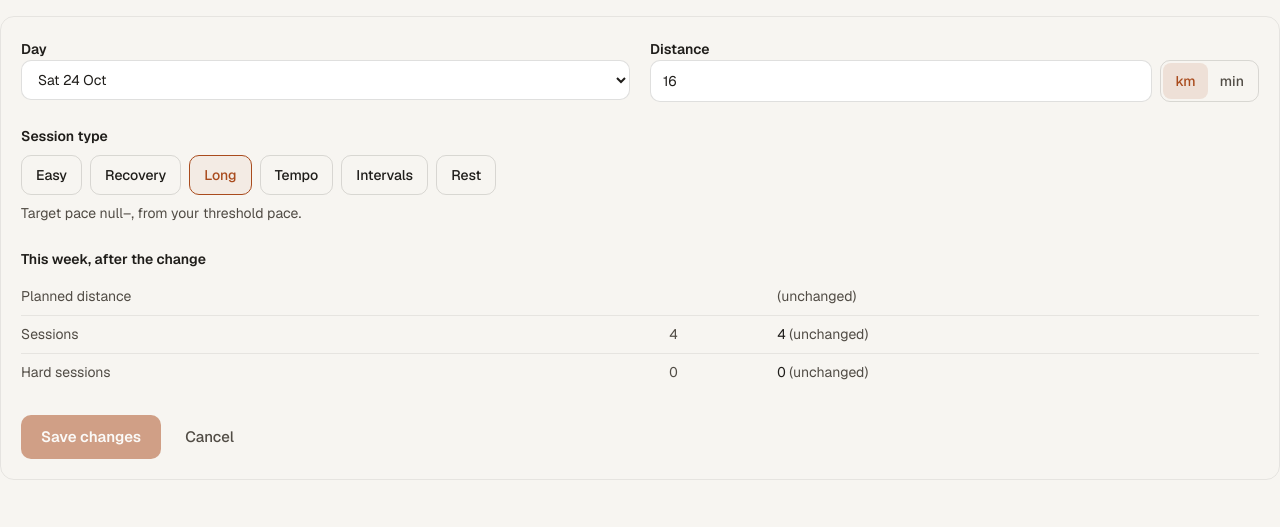
the session editor › refuses a distance that is not a positive number, and says why
The image size is (1280, 527).
Replace the text in the number field labelled "Distance" with "0": [901, 81] box [650,60,1152,102]
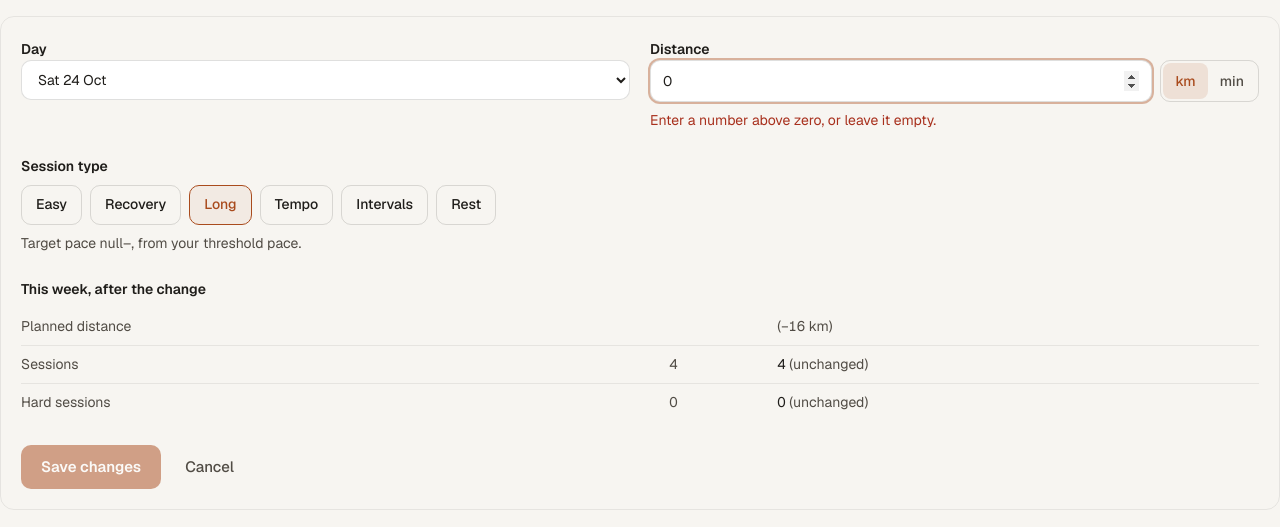
Result: the text "Enter a number above zero, or leave it empty." is shown at [650,111,936,129]
Result: the button "Save changes" is disabled at [21,445,161,489]
